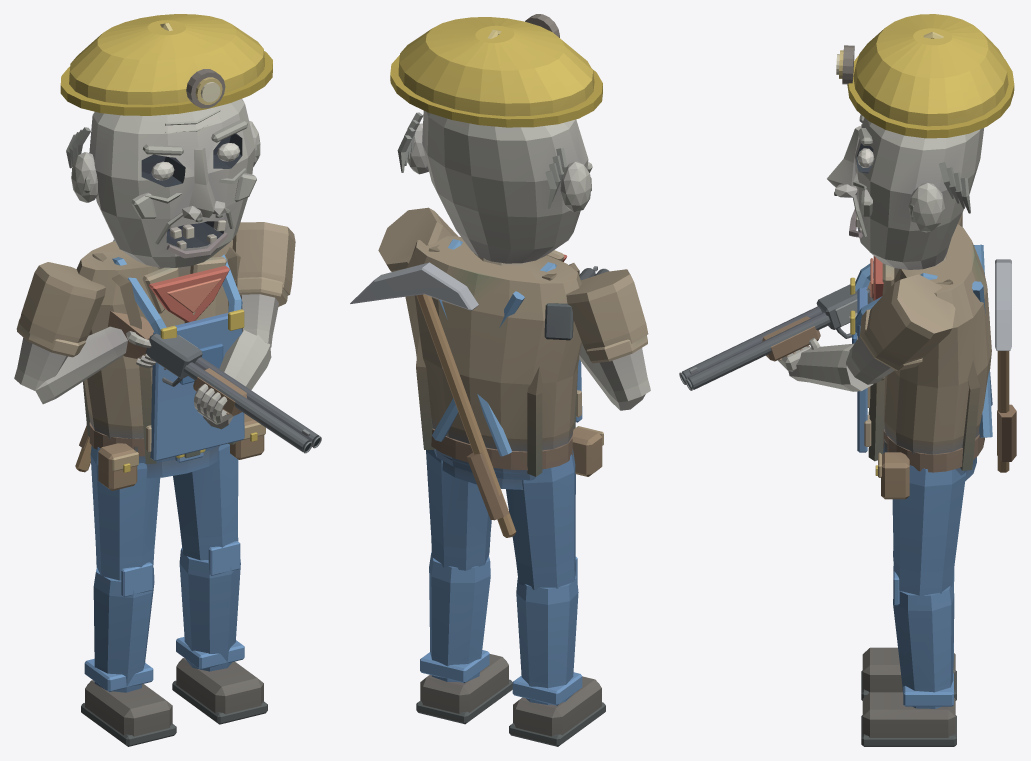
File: GrandfatherMiner.glb
3 views of the same model, side by side, from view 1: azimuth 30°, elevation 25°; view 2: azimuth 150°, elevation 25°; view 3: azimuth 270°, elevation 25° (orthographic).
Parts seen in each view (by area): view 1: Head, Body, LegR, LegL, ArmR, ArmL; view 2: Body, Head, LegR, LegL, ArmR, ArmL; view 3: Head, Body, LegL, ArmL, LegR.
Boxes of the visible parts, x1,y1,x2,y2 form: Head: [60, 14, 272, 267]; Body: [75, 239, 321, 490]; LegR: [81, 446, 176, 746]; LegL: [172, 443, 267, 724]; ArmR: [14, 262, 155, 404]; ArmL: [194, 222, 295, 429]; Body: [350, 236, 609, 537]; Head: [390, 14, 602, 263]; LegR: [506, 449, 605, 746]; LegL: [416, 450, 512, 724]; ArmR: [566, 269, 650, 410]; ArmL: [378, 207, 458, 271]; Head: [827, 14, 1014, 269]; Body: [679, 224, 1016, 499]; LegL: [861, 465, 965, 746]; ArmL: [777, 274, 955, 391]; LegR: [861, 550, 956, 700].
Bounding box in the file's own units: 2.69 × 6.55 × 2.93.
